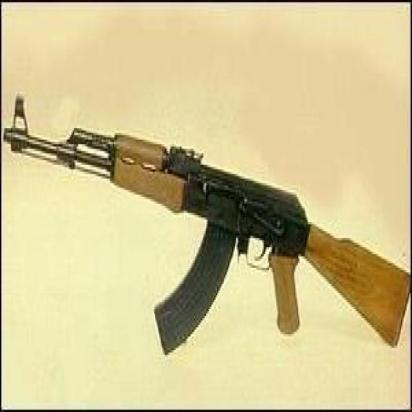Gun: (4, 92, 410, 356)
